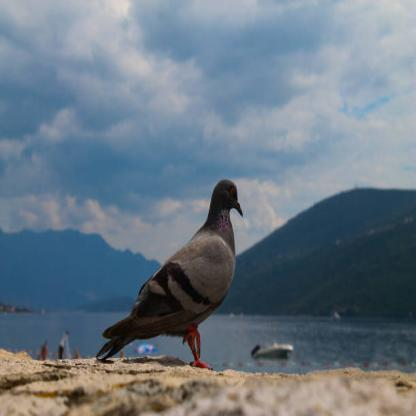Flying Rat: (97, 176, 256, 368)
